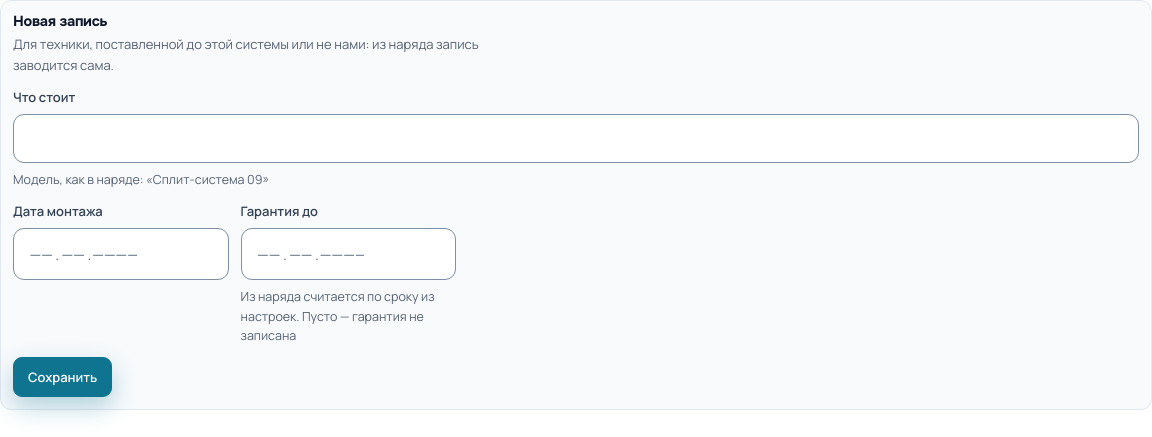
Test case: Форма техники клиента › 🔴 названное сервером поле подсвечивается, а не прячется в общей ошибке
Type "Сплит-система 07" into the field labelled "Что стоит" at (576, 138), box [13, 114, 1139, 163]
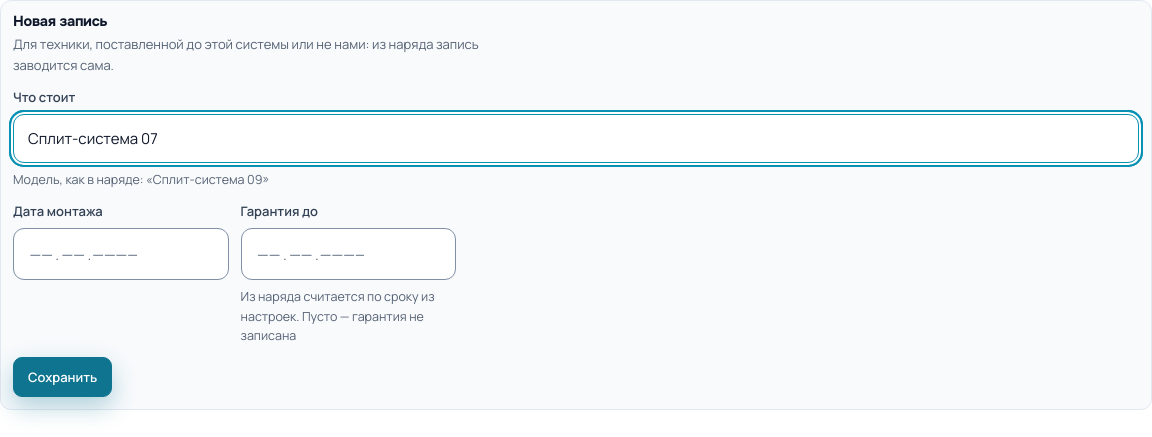
Click the button "Сохранить" at (63, 378), box [13, 358, 112, 398]
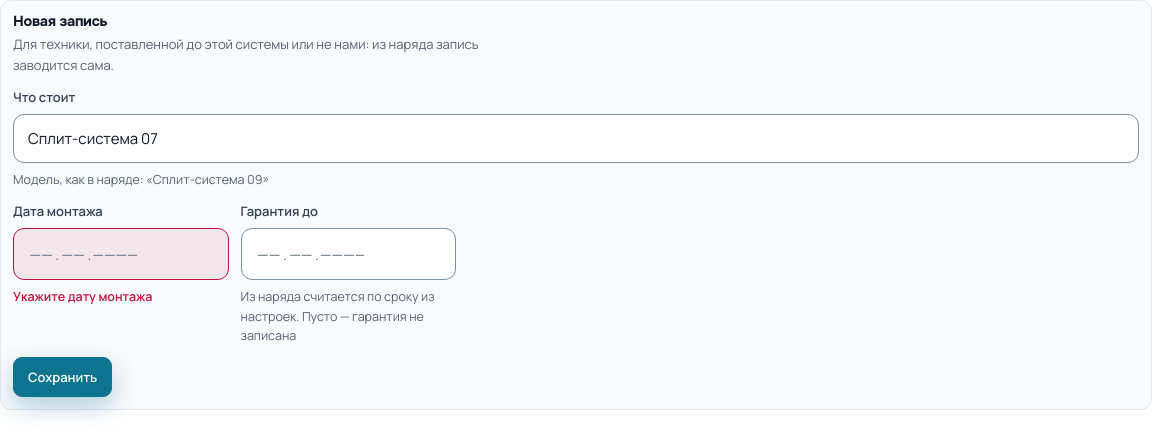
Now the text "Укажите дату монтажа" is shown, box [13, 288, 152, 305]
